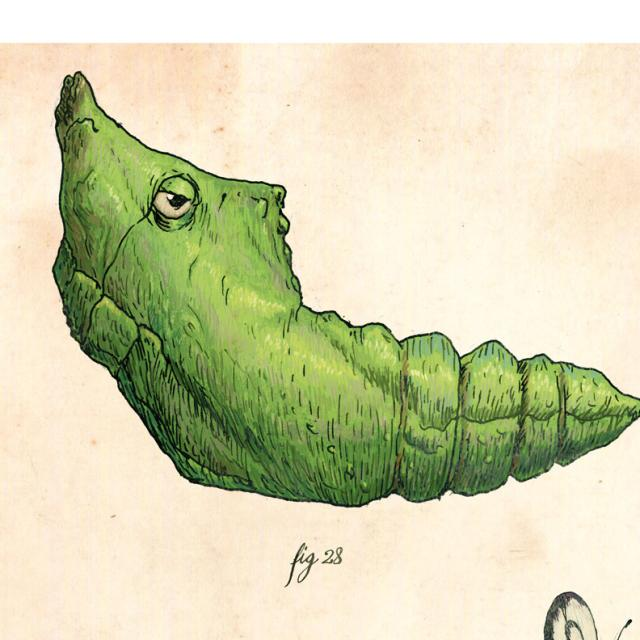Metapod: (51, 65, 633, 531)
